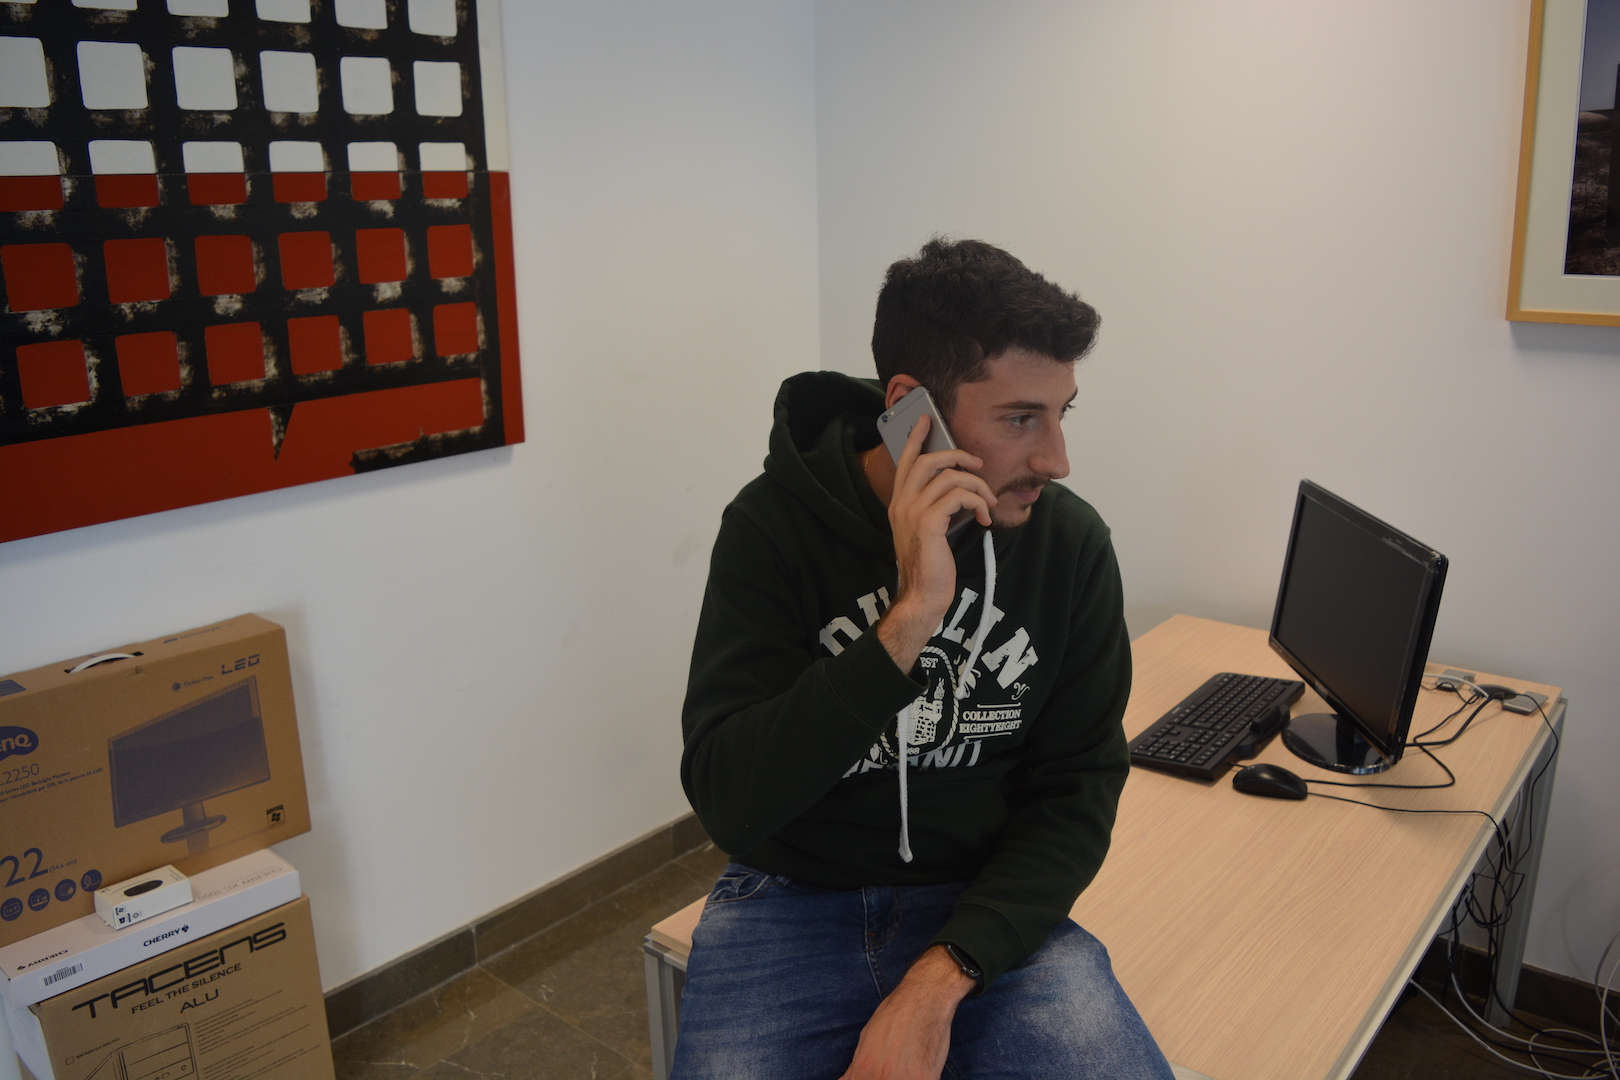smartphone: (875, 385, 978, 539)
